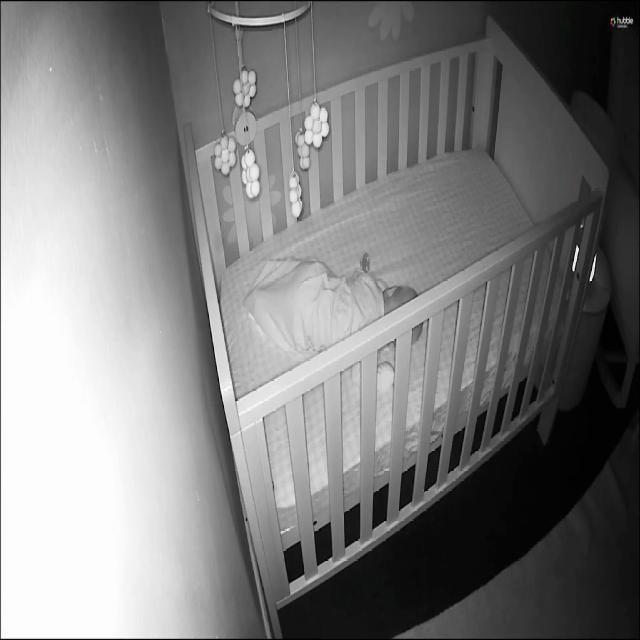baby: (246, 242, 428, 404)
